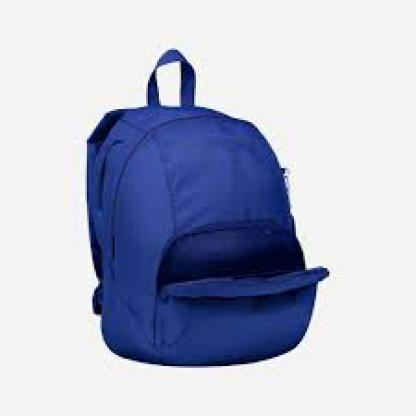morral: (67, 48, 351, 374)
